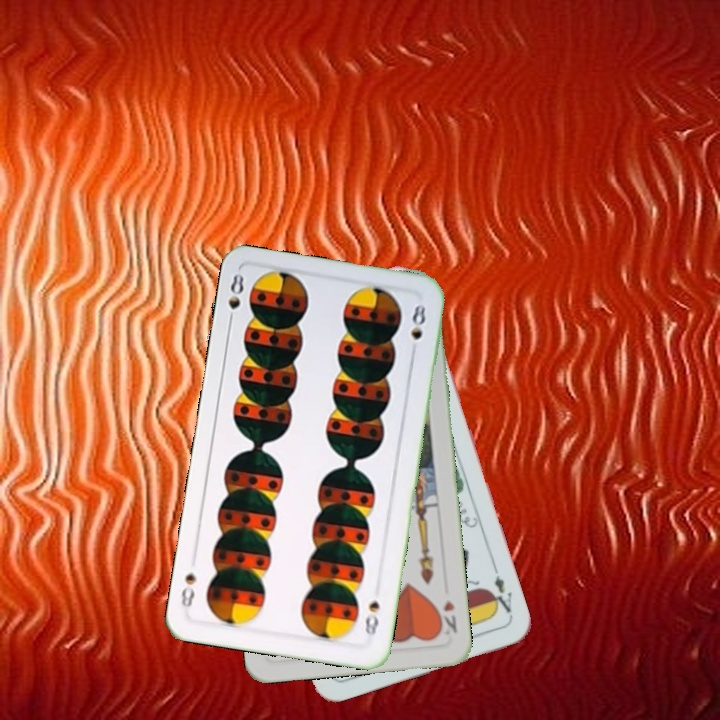EA: (485, 563, 516, 621)
HK: (433, 596, 460, 640)
S8: (224, 269, 247, 328), (360, 596, 383, 639)
